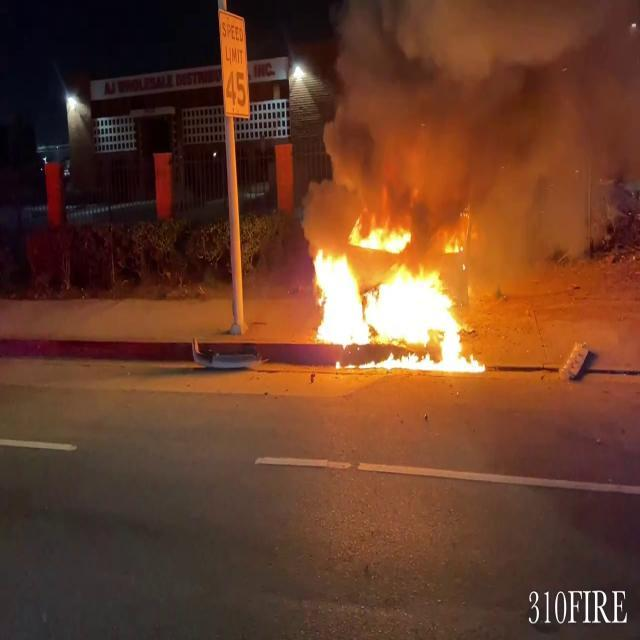Fire: (298, 216, 490, 376)
Smoke: (306, 0, 638, 215)
